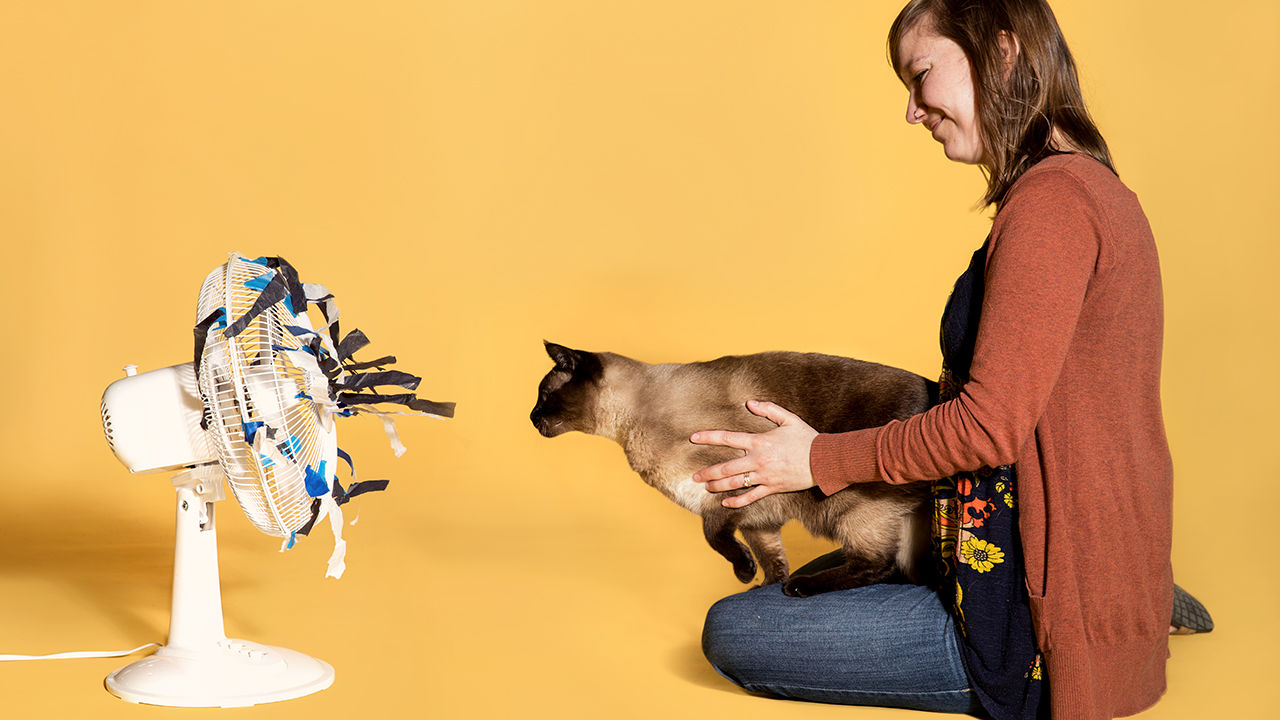cat: (491, 303, 681, 484)
